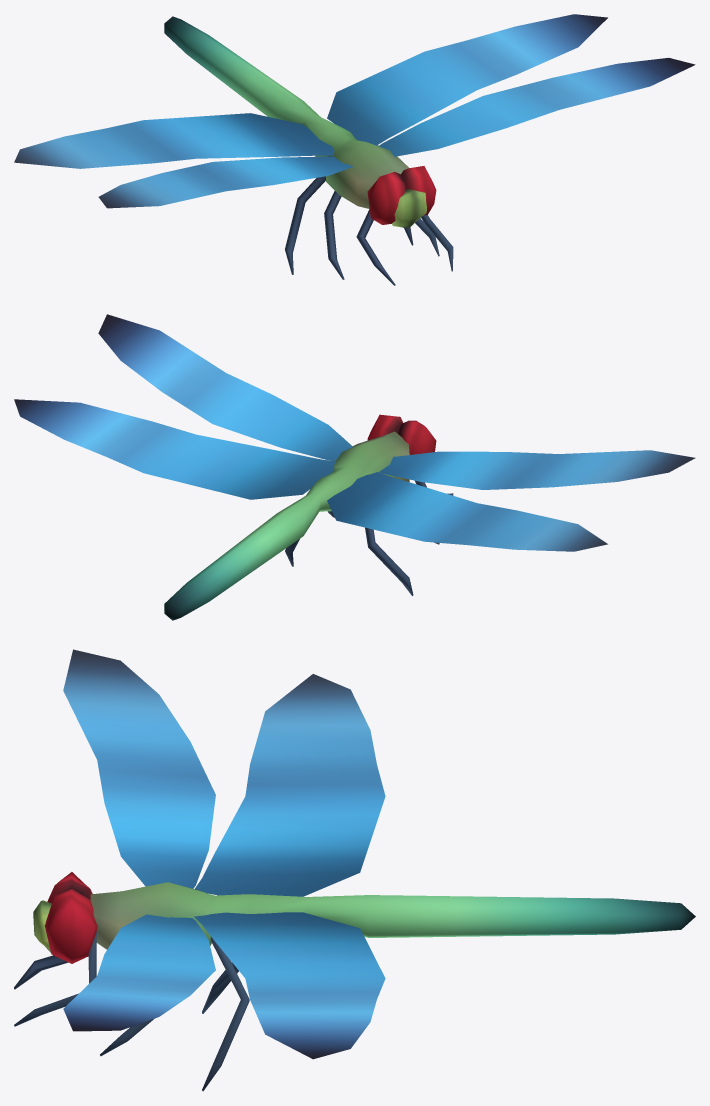
Rendered from DragonFly.glb.
3 renders of one model, top to bottom at view 1: azimuth 30°, elevation 25°; view 2: azimuth 150°, elevation 25°; view 3: azimuth 270°, elevation 25°, orthographic. The views are drawn at different scales.
Parts seen in each view (by area): view 1: DragonFly; view 2: DragonFly; view 3: DragonFly.
Boxes of the visible parts, x1,y1,x2,y2 form: DragonFly: [14, 14, 695, 285]; DragonFly: [14, 314, 695, 620]; DragonFly: [14, 649, 695, 1091].
Bounding box in the file's own units: 0.5405 × 0.1388 × 0.404.
1 material, 1 textured.
